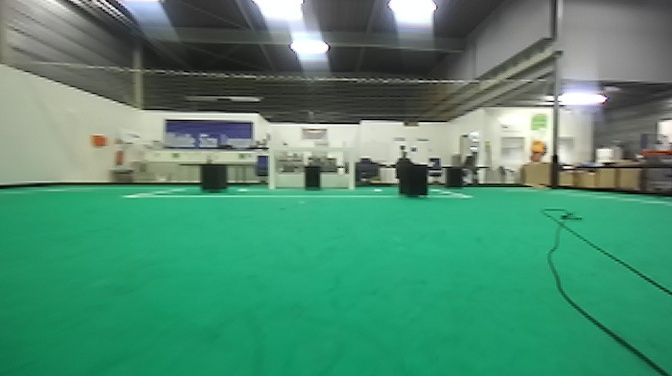goalpost: (344, 151, 361, 199), (266, 151, 275, 189)
